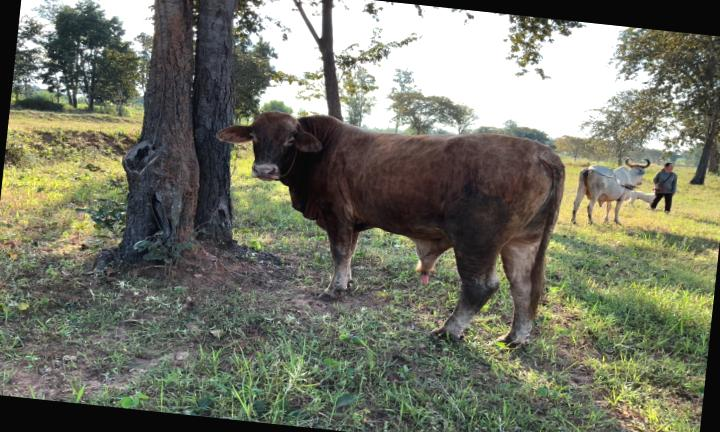Charolais: (216, 112, 564, 344)
